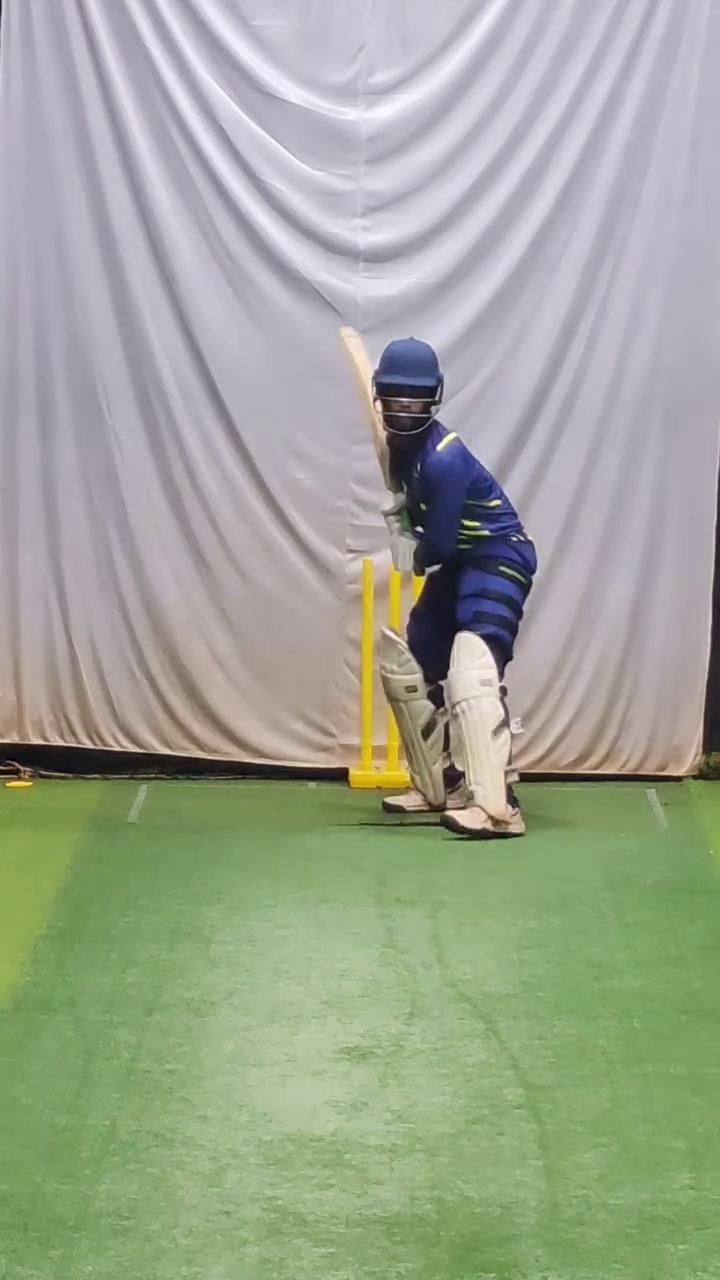bat: (333, 322, 402, 497)
